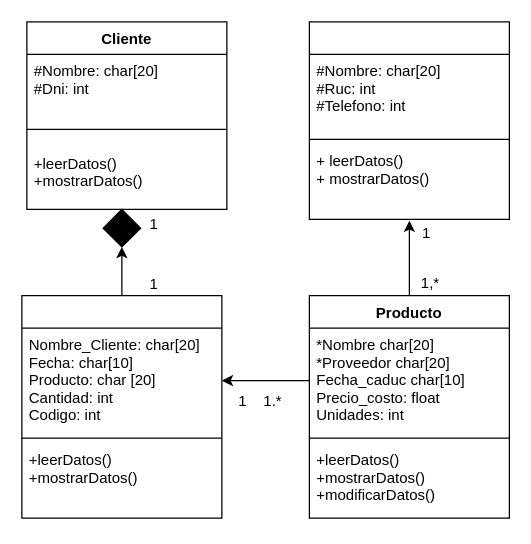
This 531x544 diagram has some shape labels left out. The box of each missing label's shape, as (x1, y1, x2, y2) in pixels:
Factura: (21, 294, 222, 518)
Proveedor: (308, 21, 509, 219)
